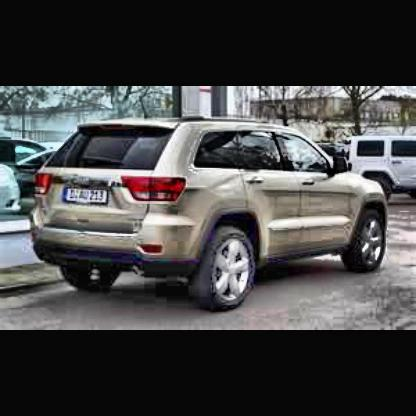Jeep Grand Cherokee SUV 2012: (29, 118, 389, 313)
